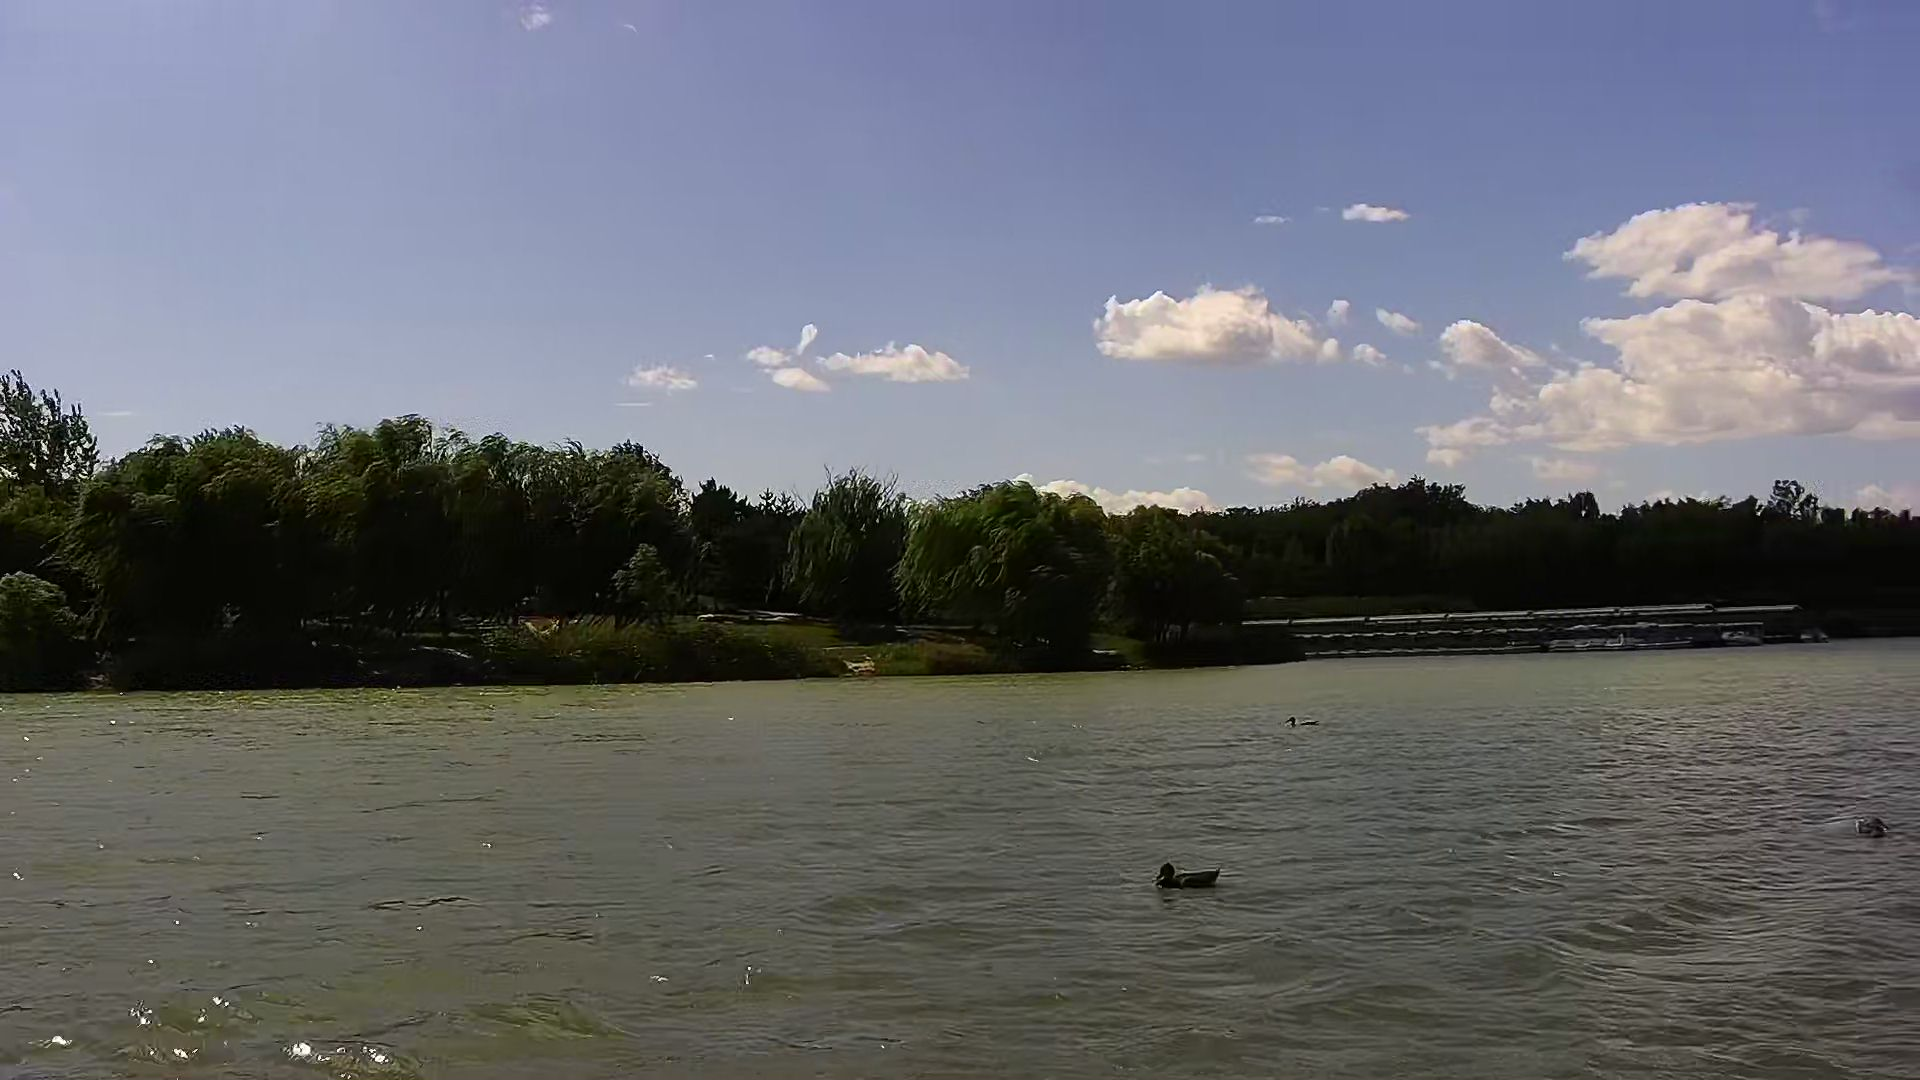animal: (1149, 858, 1233, 898), (1278, 709, 1319, 733)
harbor: (1288, 600, 1793, 658)
